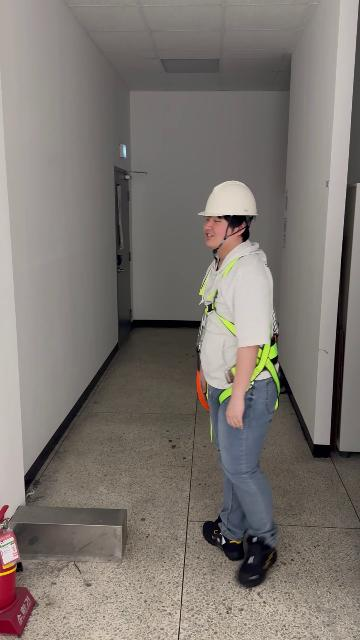helmet_worn: (196, 179, 260, 219)
shoe_worn: (237, 534, 277, 587), (201, 516, 244, 560)
vest_worn: (198, 257, 281, 415)
